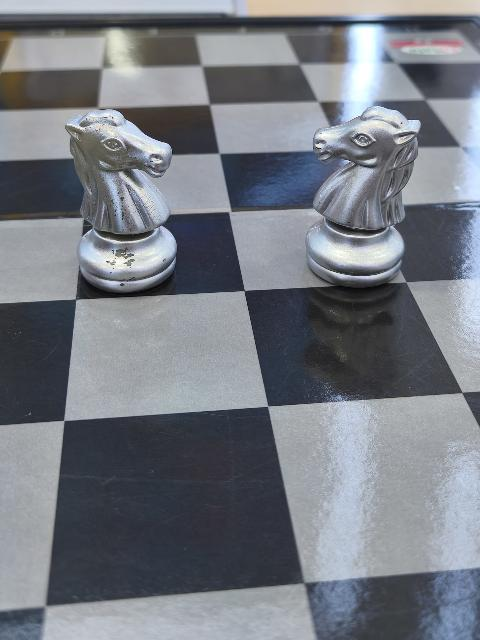white_knight: (303, 102, 424, 283), (66, 107, 181, 286)
